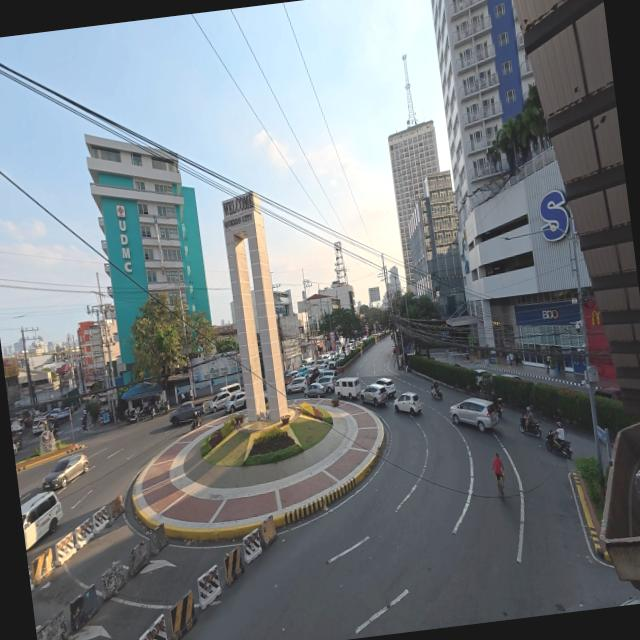car: (42, 453, 89, 491), (450, 398, 498, 432), (170, 401, 204, 425), (394, 392, 421, 416), (361, 384, 387, 405), (224, 391, 246, 413), (208, 391, 231, 412), (376, 377, 396, 396), (287, 376, 308, 394), (595, 387, 621, 400), (317, 375, 335, 393), (304, 383, 325, 398), (50, 408, 69, 422), (475, 369, 490, 385), (306, 366, 320, 383), (295, 365, 311, 377), (501, 373, 523, 380), (284, 369, 298, 378), (318, 362, 328, 373), (304, 359, 314, 366), (329, 360, 336, 370), (338, 353, 346, 361), (13, 444, 18, 454), (392, 346, 395, 353)
motorcycle: (546, 430, 572, 458), (520, 416, 541, 437), (127, 410, 139, 424), (191, 416, 201, 430), (495, 398, 502, 417), (431, 388, 443, 399), (13, 436, 22, 449), (82, 419, 87, 430)
vans: (21, 492, 62, 549), (335, 377, 360, 399), (221, 383, 241, 395), (32, 418, 47, 434)
